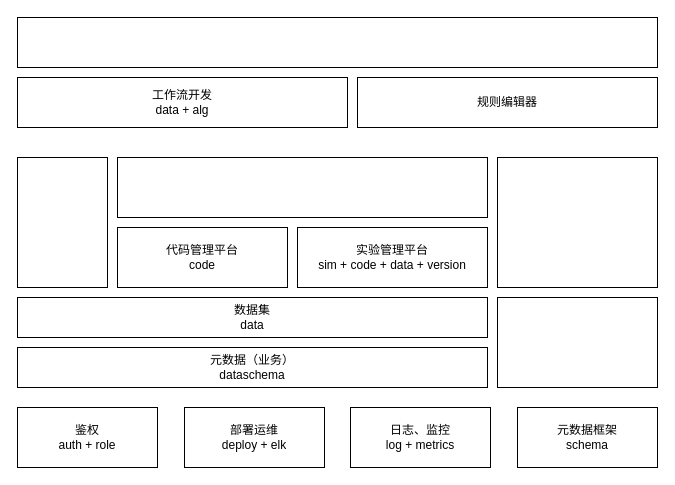
Some shapes in this 675 by 485 pixel diagram are drawn without their labels. Here are the shapes that lost their labels. From the top down, the centre of each, then its label:
point 337,42: 工作流部署
point 302,187: 标注分析平台 data + version + analyse
point 62,222: ETL
point 577,222: 算法发布 CI/CD：code + env 发布：本地/云 服务：算法服务/模型库
point 577,342: 运行环境 env
